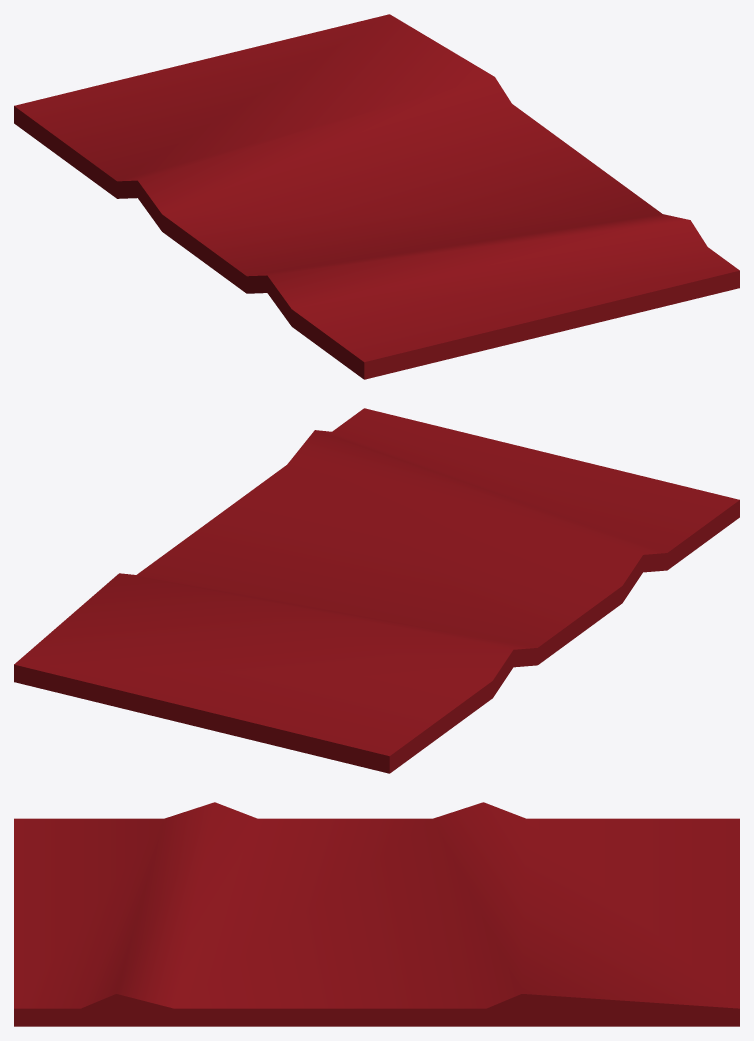
The model's file is cc0-carpet-lod1.glb.
The picture shows the model from 3 angles, top to bottom: view 1: azimuth 30°, elevation 25°; view 2: azimuth 150°, elevation 25°; view 3: azimuth 270°, elevation 25°; orthographic projection. The views are drawn at different scales.
Visible parts, largest first — view 1: part_0; view 2: part_0; view 3: part_0.
Boxes of the visible parts, left/top/right/bottom form: part_0: left=14, top=14, right=739, bottom=379; part_0: left=14, top=408, right=739, bottom=773; part_0: left=14, top=802, right=739, bottom=1026.
Bounding box in the file's own units: 2.48 × 0.2105 × 4.
1 material, 1 textured.
